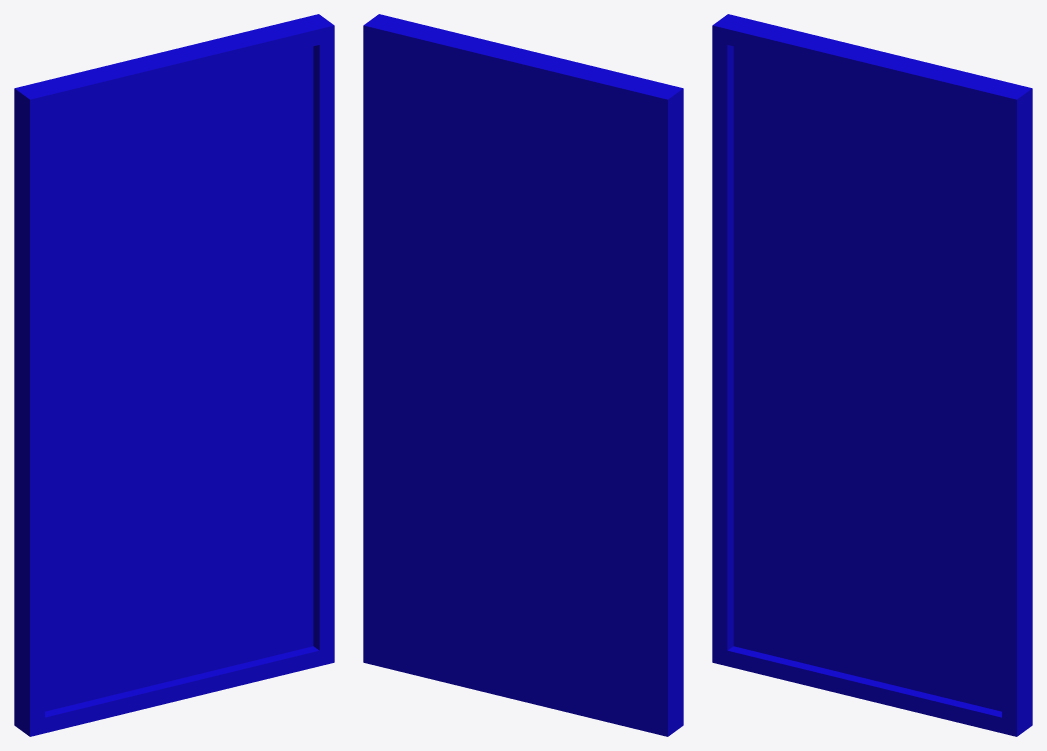
Rendered from Door_DoorStore.fbx.
3 views of the same model, side by side, from view 1: azimuth 30°, elevation 25°; view 2: azimuth 150°, elevation 25°; view 3: azimuth 330°, elevation 25° (orthographic).
Parts seen in each view (by area): view 1: Door.001; view 2: Door.001; view 3: Door.001.
Boxes of the visible parts, x1,y1,x2,y2 form: Door.001: [14, 14, 334, 736]; Door.001: [363, 14, 683, 736]; Door.001: [712, 14, 1032, 736].
Size of the model in its own units: 0.993 by 1.99 by 0.0884.
Materials: 1 (1 with a texture image).
